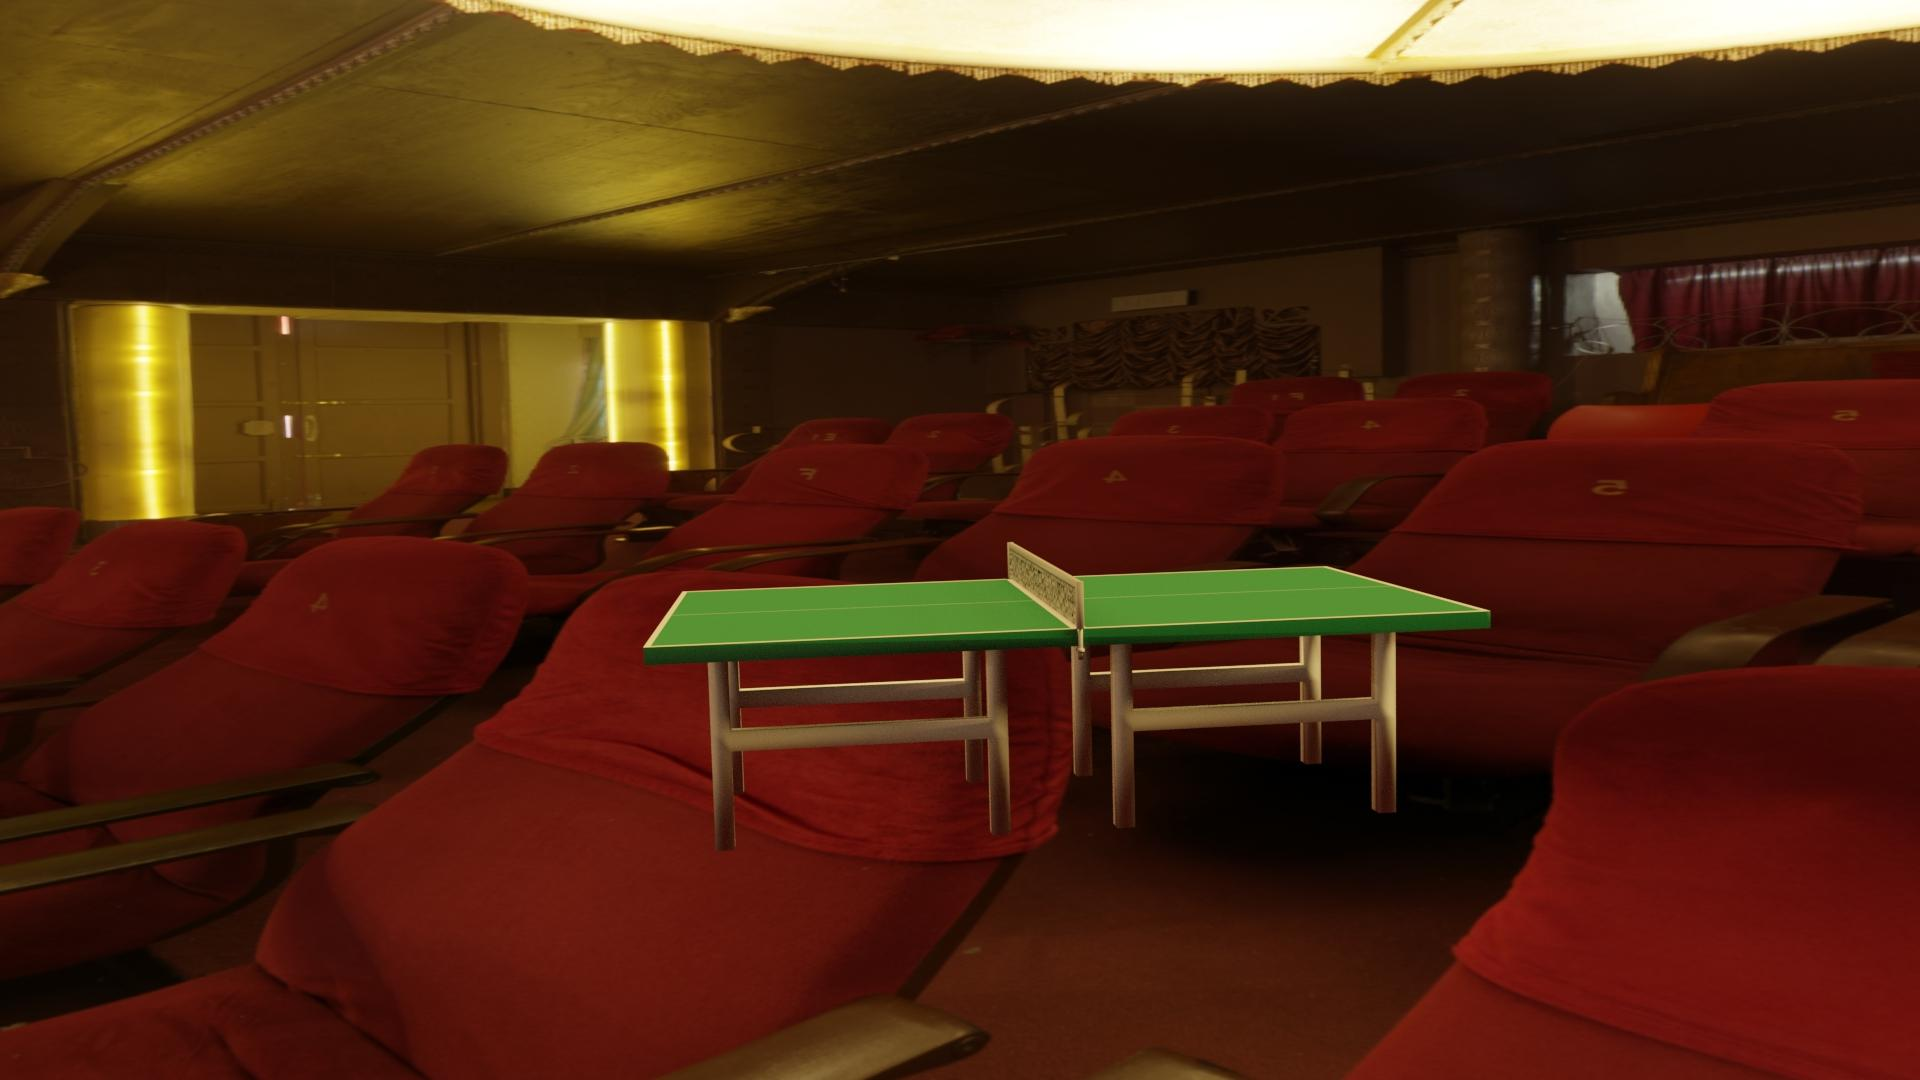table: (650, 567, 1482, 646)
